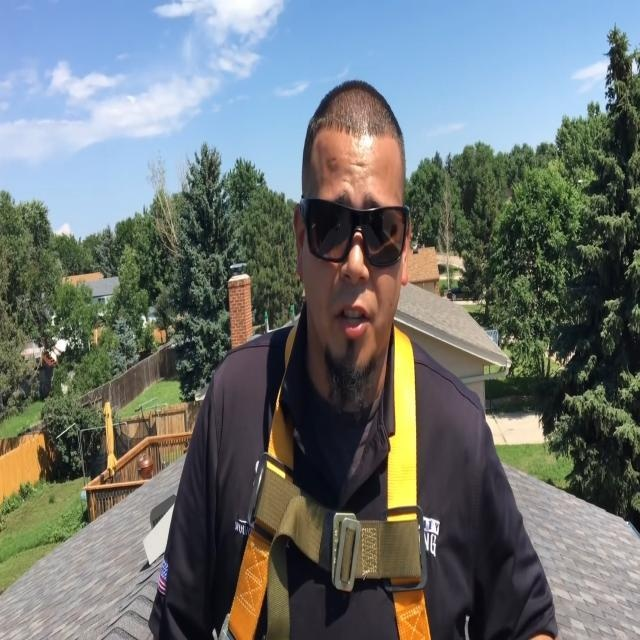Arnes_seguridad: (221, 288, 439, 640)
